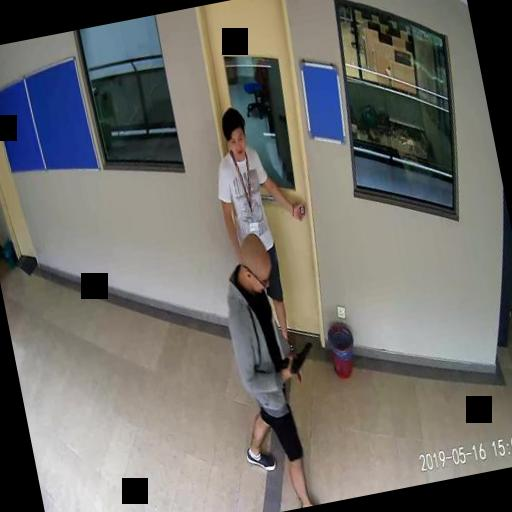Handgun: (276, 340, 316, 376)
